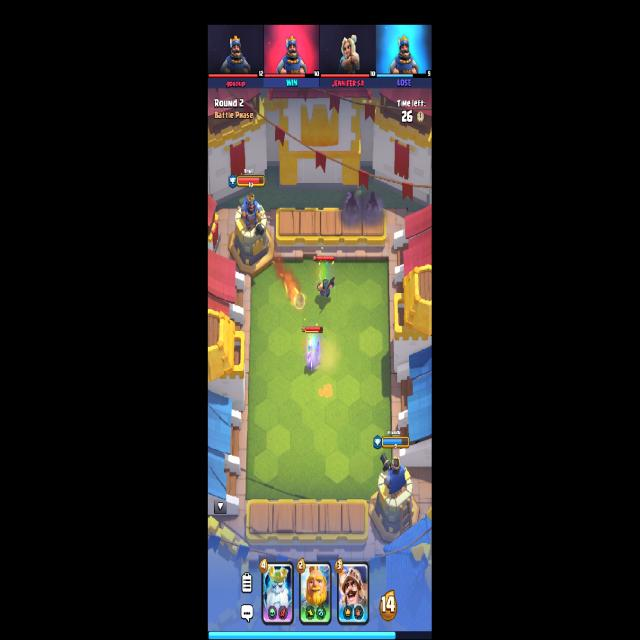bandit: (307, 340, 321, 370)
card_prince: (337, 560, 370, 624)
card_royal_ghost: (262, 561, 294, 626)
card_royal_giant: (299, 562, 332, 626)
executioner: (318, 277, 335, 297)
